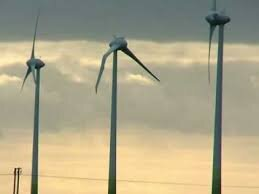faulty: (95, 33, 160, 99)
